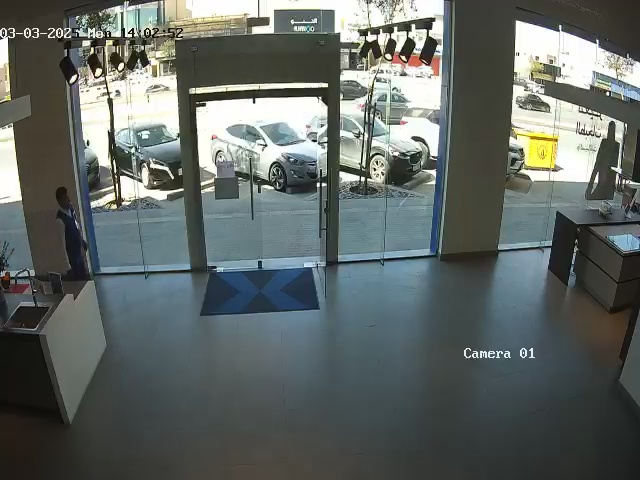employee: (55, 186, 91, 281)
